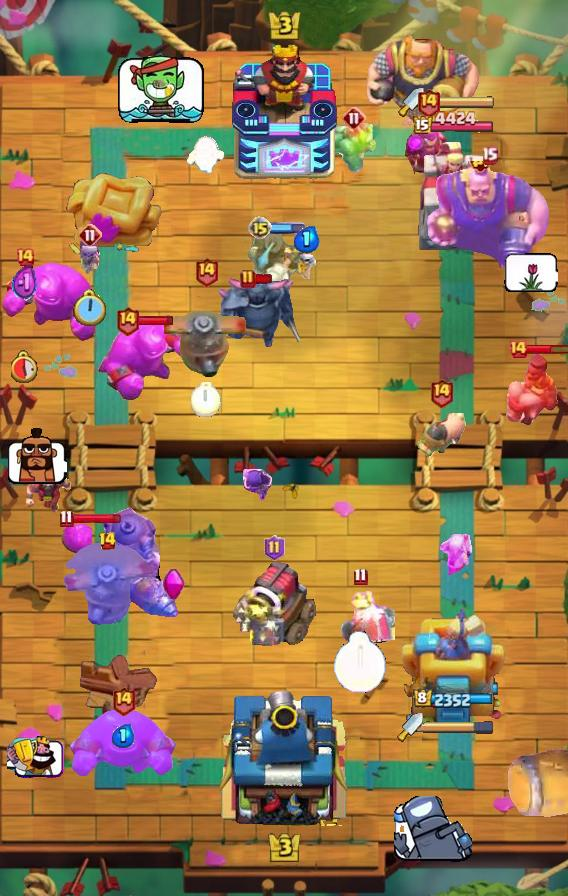bar: (401, 601, 505, 731), (412, 140, 494, 256)
bat: (185, 135, 227, 177)
bowler: (23, 465, 73, 521)
clone: (0, 261, 108, 343), (96, 318, 196, 402), (67, 707, 179, 779)
dark-prince: (62, 542, 152, 628), (164, 290, 248, 378)
dirt: (508, 747, 568, 821)
electro-spirit: (12, 264, 38, 303), (294, 226, 320, 253), (113, 724, 136, 748)
elite-barbarian: (501, 352, 561, 426)
elixir: (333, 630, 387, 693), (73, 289, 108, 329), (191, 383, 221, 418), (11, 350, 39, 382)
emote: (70, 511, 122, 525), (526, 343, 568, 355), (270, 222, 306, 234), (138, 315, 175, 326), (255, 273, 274, 285)
executioner: (415, 413, 467, 457)
giant-skeleton: (365, 29, 481, 129)
goblin: (74, 239, 106, 279), (242, 469, 273, 505)
golem: (231, 562, 317, 646)
golemite: (216, 277, 300, 349)
heal-spirit: (293, 247, 321, 279)
inferno-dragon: (246, 225, 304, 301)
king-tower: (214, 684, 354, 826), (230, 41, 338, 181)
king-tower-bar: (424, 95, 496, 109), (423, 720, 495, 734)
lightning: (425, 161, 553, 275)
miner: (60, 524, 92, 554)
mortar-evolution: (325, 591, 395, 649)
rascal-girl: (404, 116, 452, 184)
selected: (413, 111, 496, 138), (413, 689, 493, 711)
skeleton: (117, 54, 207, 126), (394, 796, 472, 864), (5, 427, 66, 485), (7, 735, 65, 779), (504, 252, 558, 291)
skeleton-king-skill: (162, 569, 186, 603)
text: (415, 86, 440, 117), (193, 256, 218, 287), (115, 305, 140, 336), (112, 685, 137, 715), (430, 377, 454, 407), (342, 106, 366, 130), (248, 216, 272, 240), (78, 223, 102, 247), (263, 535, 284, 561), (15, 247, 35, 267), (508, 339, 528, 359), (99, 531, 118, 551), (481, 147, 499, 165), (240, 269, 256, 289), (59, 509, 73, 527), (353, 567, 367, 585)
valkyrie-evolution: (328, 122, 380, 174)
wizard: (99, 506, 181, 620)
zap: (440, 531, 478, 577)
